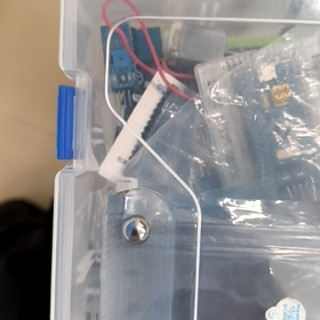ironball: (119, 213, 153, 246)
